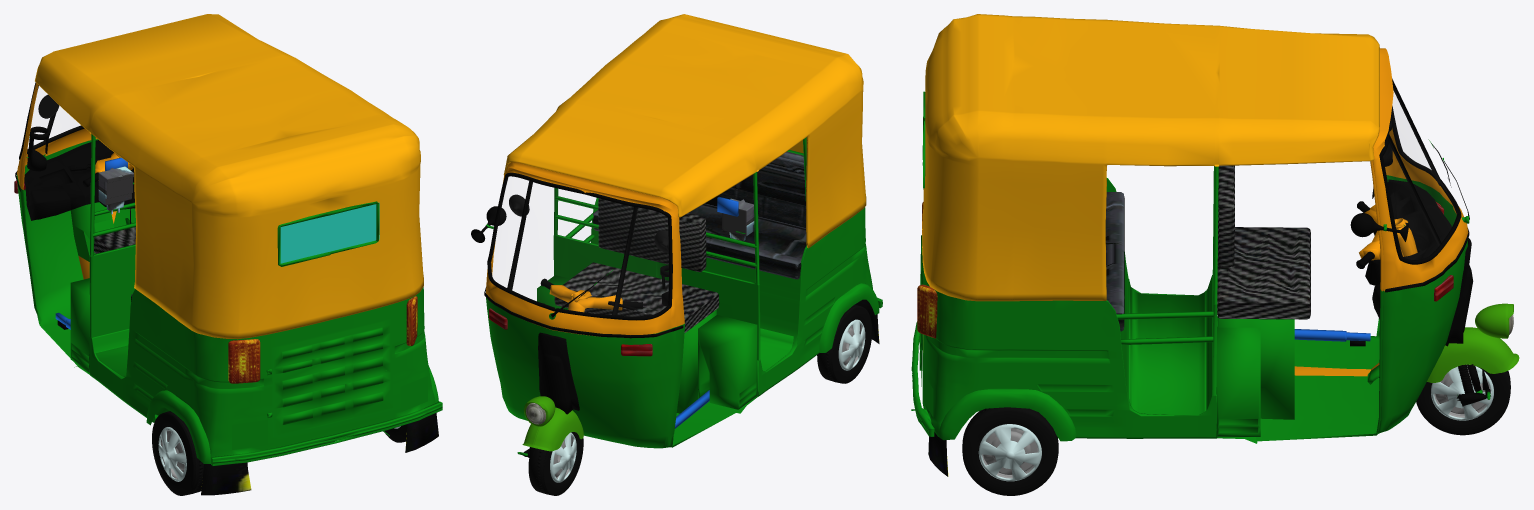
File: Rixa.FBX
The picture shows the model from 3 angles, left to right: view 1: azimuth 30°, elevation 25°; view 2: azimuth 150°, elevation 25°; view 3: azimuth 270°, elevation 25°; orthographic projection. The views are drawn at different scales.
Parts seen in each view (by area): view 1: Plane_002, boot_ok, Object001, Wheel001, ChamferBox002, ChamferBox004; view 2: Plane_002, Wheel001, Wheel, bump_front_ok, Object001; view 3: Plane_002, Wheel002, Wheel, bump_front_ok, Object001, ChamferBox004.
Boxes of the visible parts, bbox=[...] form: Plane_002: bbox=[15, 14, 442, 495]; boot_ok: bbox=[272, 318, 392, 436]; Object001: bbox=[21, 84, 135, 363]; Wheel001: bbox=[152, 411, 203, 495]; ChamferBox002: bbox=[228, 339, 260, 383]; ChamferBox004: bbox=[406, 296, 417, 345]; Plane_002: bbox=[471, 14, 882, 457]; Wheel001: bbox=[817, 304, 872, 383]; Wheel: bbox=[528, 432, 583, 495]; bump_front_ok: bbox=[522, 396, 583, 451]; Object001: bbox=[491, 162, 730, 446]; Plane_002: bbox=[911, 14, 1490, 476]; Wheel002: bbox=[962, 407, 1058, 495]; Wheel: bbox=[1416, 366, 1510, 435]; bump_front_ok: bbox=[1427, 303, 1519, 382]; Object001: bbox=[1264, 48, 1456, 440]; ChamferBox004: bbox=[917, 284, 937, 338].
Size of the model in its own units: 1.83 by 2.33 by 3.48.
